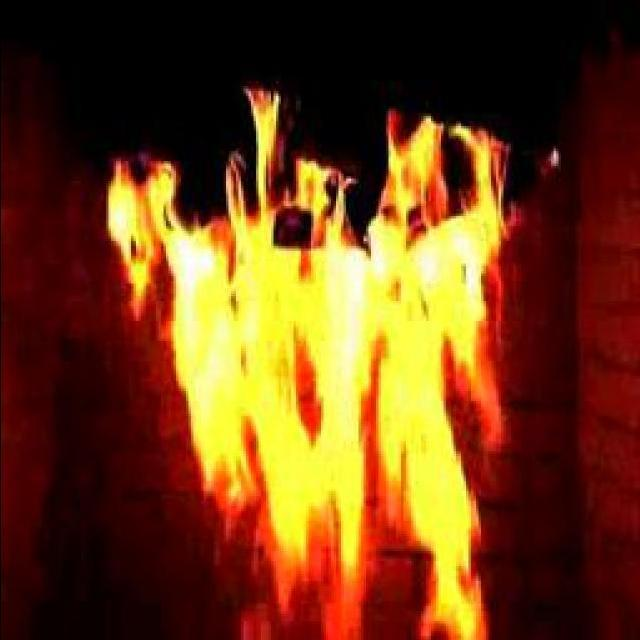Fire: (129, 188, 491, 624)
